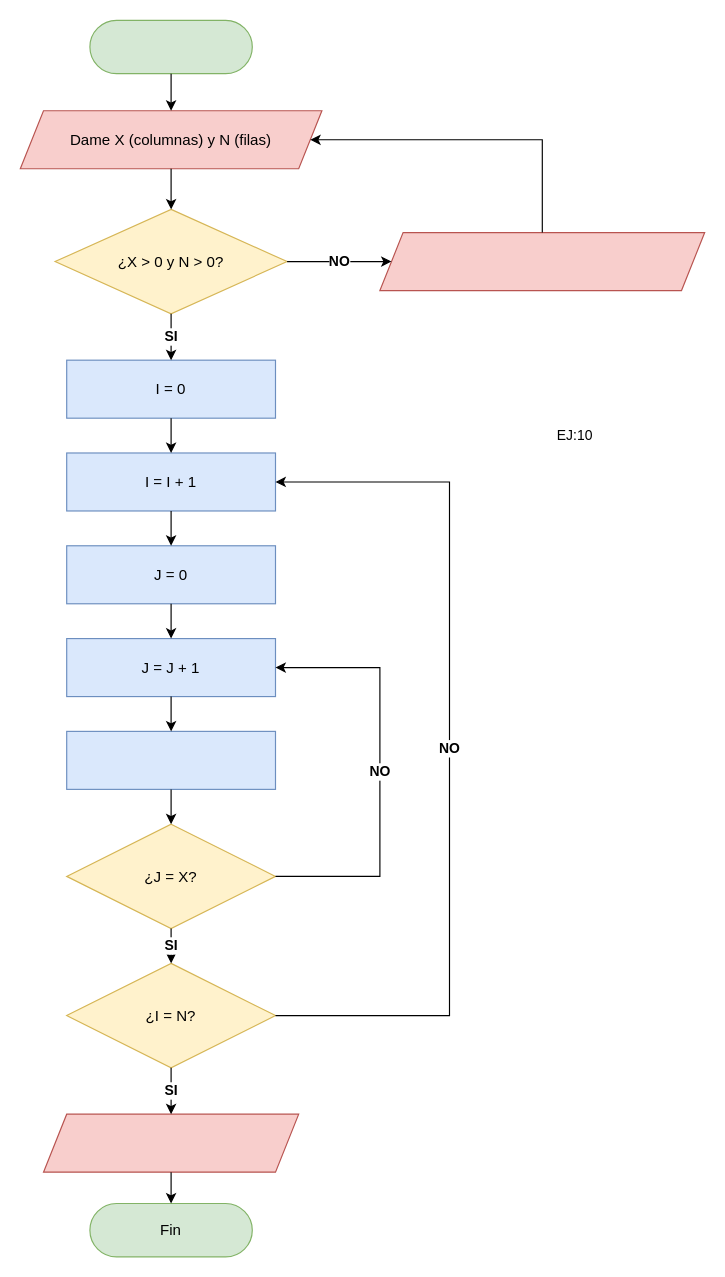
The diagram is 725 pixels wide and 1277 high, and some of its shapes have lost their labels. Each missing label, with the centre of its shape:
A(I,J) = 0: point (171, 759)
Escribir matriz A: point (170, 1142)
Escribir: "Deben ser mayores que 0": point (542, 261)
Inicio: point (170, 46)
